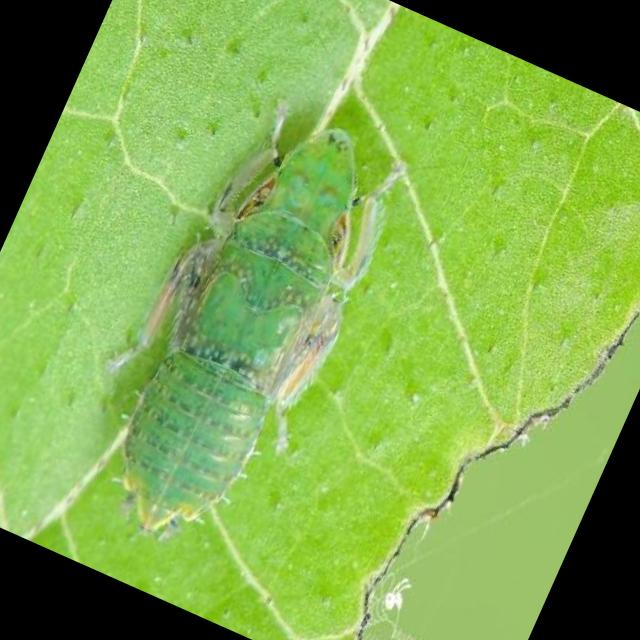green-leafhopper: (67, 88, 417, 573)
